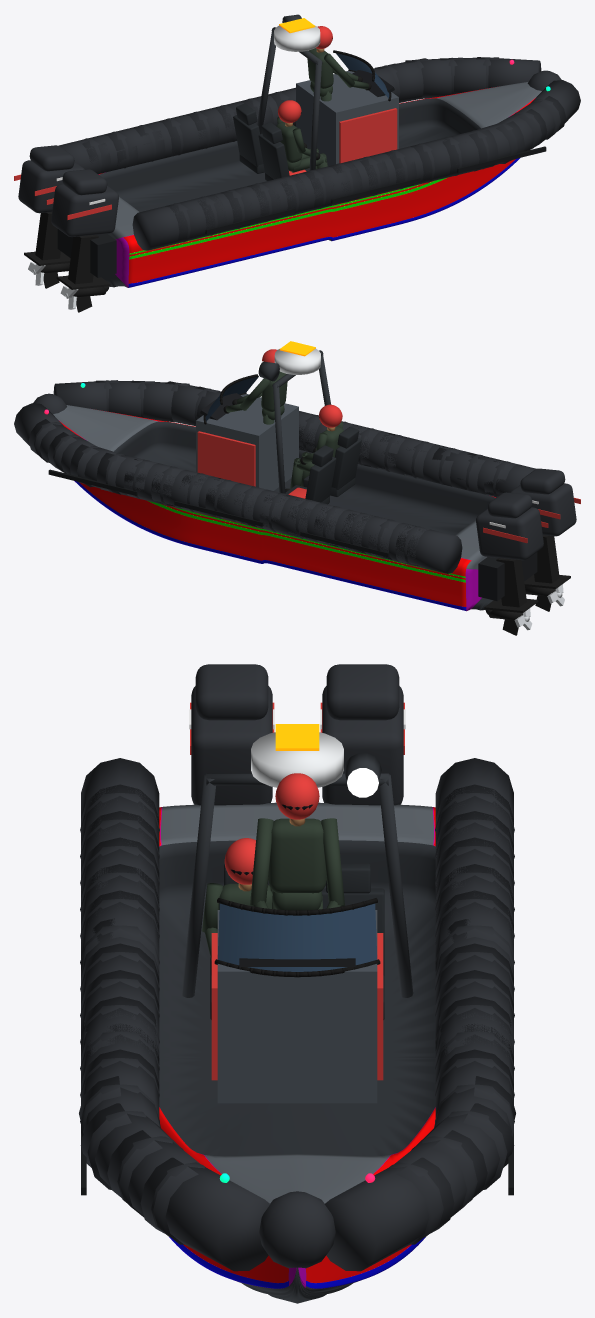
The model's file is Patrol.glb.
3 renders of one model, top to bottom at view 1: azimuth 30°, elevation 25°; view 2: azimuth 150°, elevation 25°; view 3: azimuth 270°, elevation 25°, orthographic. The views are drawn at different scales.
Visible parts, largest first — view 1: Patrol; view 2: Patrol; view 3: Patrol.
Boxes of the visible parts, left/top/right/bottom form: Patrol: left=14, top=14, right=580, bottom=312; Patrol: left=14, top=341, right=580, bottom=635; Patrol: left=79, top=664, right=515, bottom=1303.
Bounding box in the file's own units: 8.29 × 3.31 × 3.01.
Materials: 28 (1 with a texture image).
